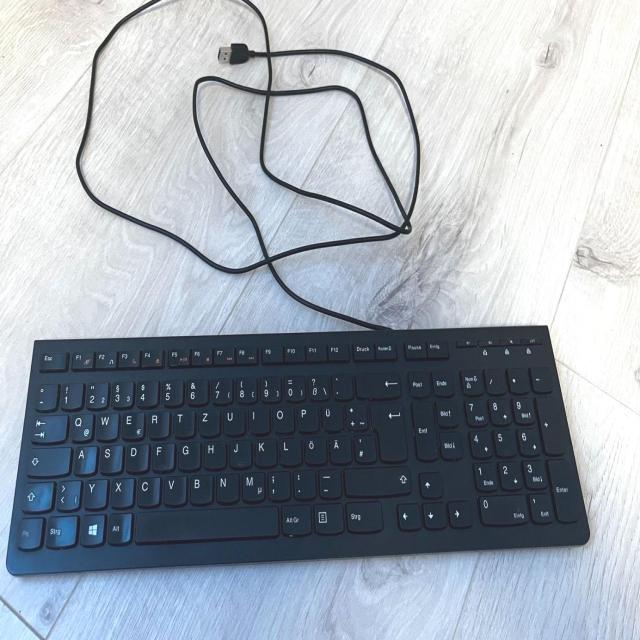0: (282, 372, 304, 400)
1: (59, 380, 81, 407)
2: (84, 379, 107, 406)
3: (109, 378, 133, 407)
4: (135, 377, 157, 405)
5: (160, 376, 182, 404)
6: (184, 375, 207, 403)
7: (210, 374, 232, 402)
8: (234, 374, 256, 402)
9: (258, 372, 280, 401)
a: (71, 443, 95, 472)
accent: (330, 371, 352, 398)
ae: (328, 433, 350, 462)
alt-left: (105, 510, 131, 542)
altgr-right: (279, 501, 310, 534)
b: (188, 472, 211, 503)
c: (135, 474, 159, 505)
caret: (32, 381, 55, 408)
comma: (266, 469, 289, 499)
d: (124, 441, 147, 470)
del: (354, 370, 400, 397)
e: (120, 409, 143, 438)
enter: (369, 401, 406, 461)
f: (150, 440, 173, 469)
g: (176, 439, 199, 468)
h: (202, 438, 225, 467)
hash: (352, 431, 375, 461)
i: (247, 404, 268, 432)
j: (228, 437, 250, 466)
k: (253, 436, 276, 465)
keyboard: (2, 321, 595, 574)
l: (278, 435, 300, 464)
less: (55, 477, 80, 508)
m: (240, 469, 264, 501)
minus: (316, 466, 340, 496)
n: (214, 471, 238, 502)
o: (271, 403, 292, 431)
oe: (303, 434, 325, 463)
p: (296, 402, 317, 430)
plus: (344, 400, 366, 429)
point: (291, 468, 315, 498)
q: (68, 410, 92, 440)
r: (146, 407, 169, 436)
s: (97, 442, 121, 471)
shift-left: (19, 478, 52, 510)
shift-lock: (25, 444, 70, 475)
shift-right: (342, 464, 410, 494)
space: (134, 504, 279, 540)
ss: (306, 372, 328, 399)
strg-left: (43, 512, 77, 546)
strg-right: (344, 498, 382, 531)
t: (172, 407, 193, 435)
tab: (30, 412, 66, 441)
u: (222, 405, 244, 434)
ue: (320, 401, 342, 430)
v: (161, 472, 185, 503)
w: (94, 409, 117, 438)
x: (109, 475, 133, 505)
y: (82, 476, 106, 507)
z: (197, 407, 219, 435)
